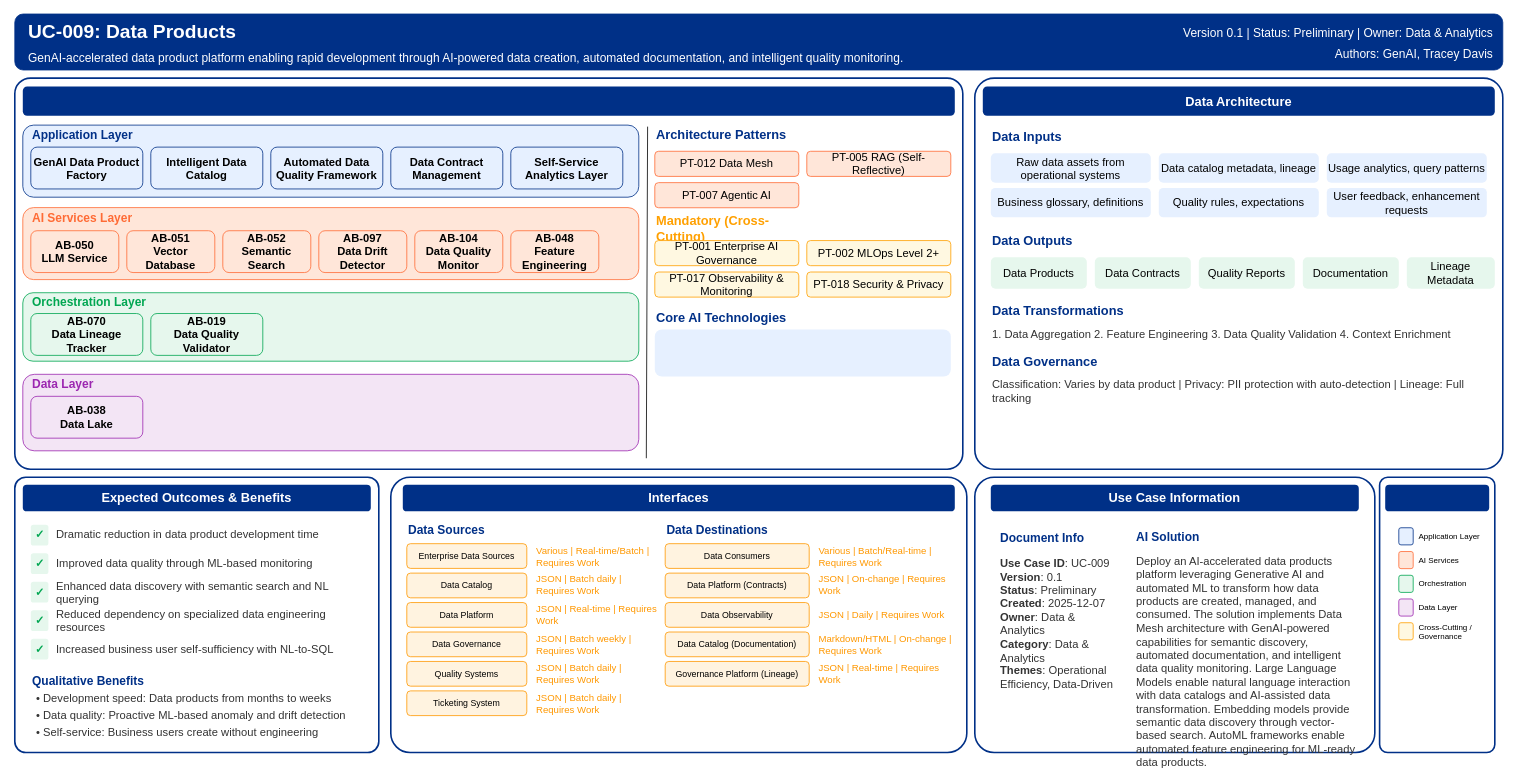
Some shapes in this 1518 by 782 pixel diagram are drawn without their labels. The shapes that lost their labels are listed below. From the top down, each one's box as (x1, y1, x2, y2) in pixels, then its label:
(22, 86, 954, 115): Solution
(654, 329, 950, 376): GPT-4/Claude | H2O.ai/DataRobot | text-embedding-3 | dbt/Spark
(1385, 484, 1489, 511): Legend
